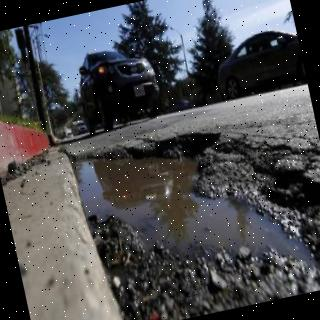pothole: (67, 133, 320, 320)
